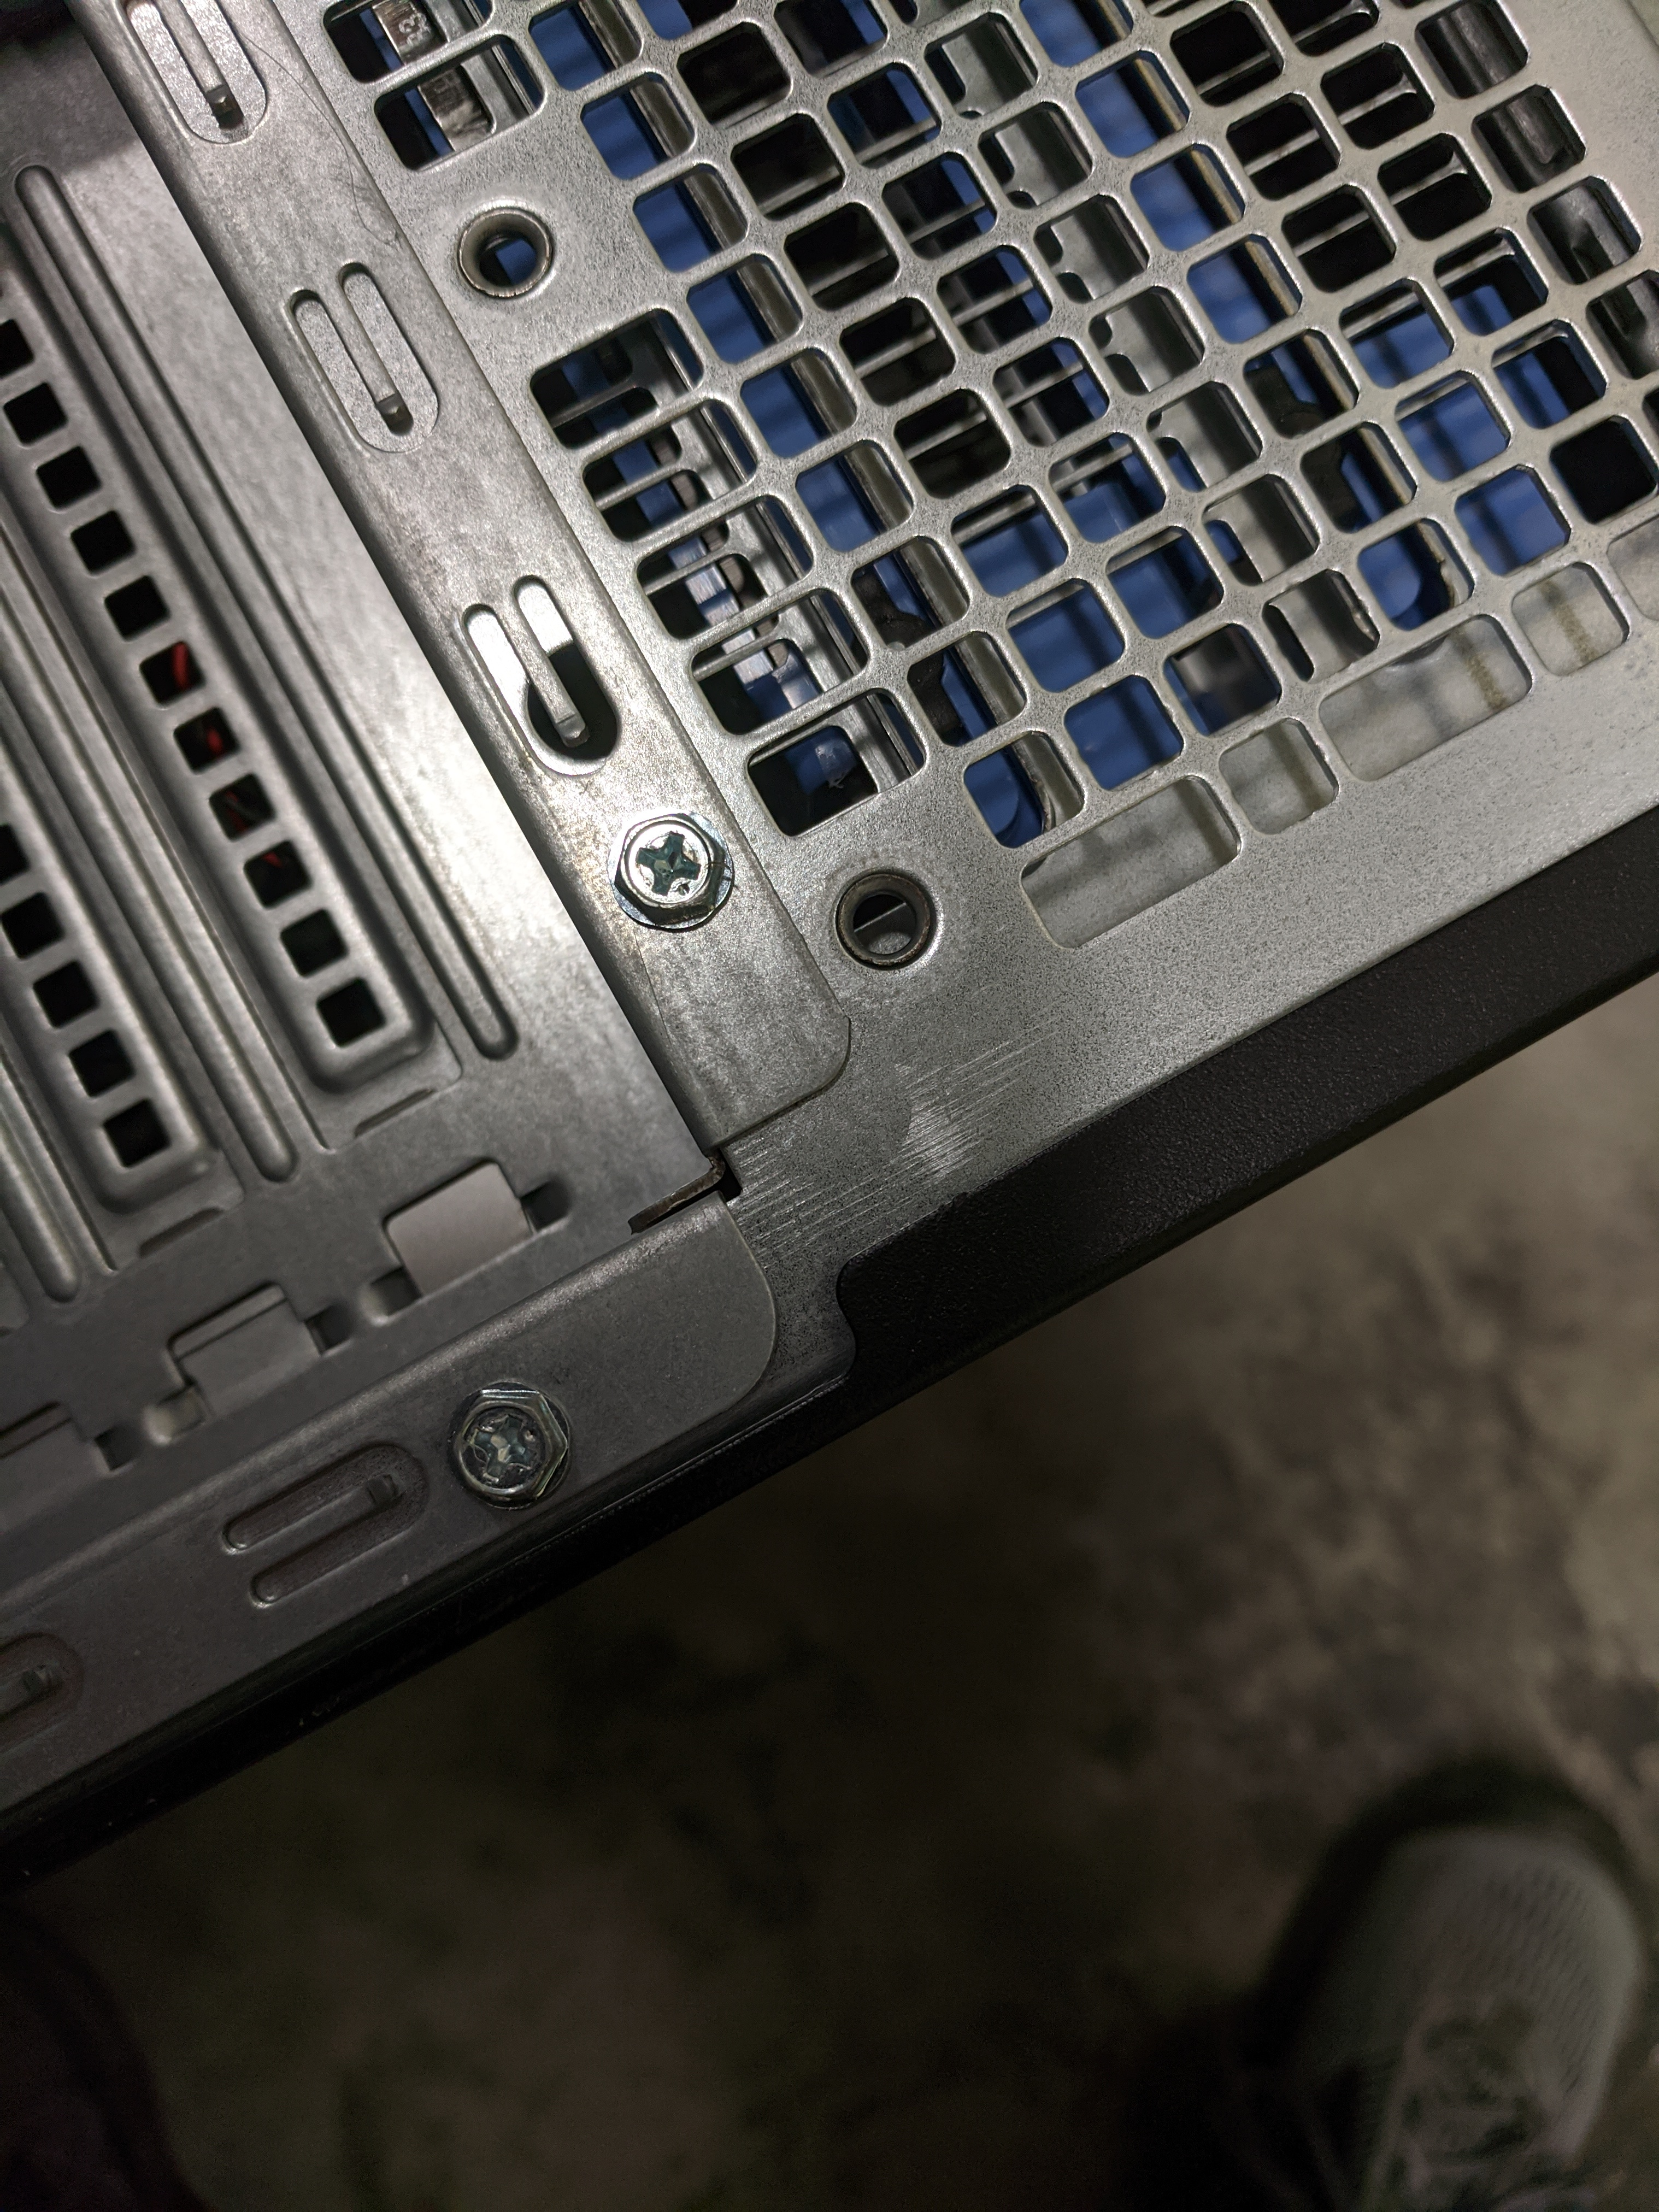cross_recessed_screw: (436, 1364, 566, 1503), (608, 803, 730, 911)
